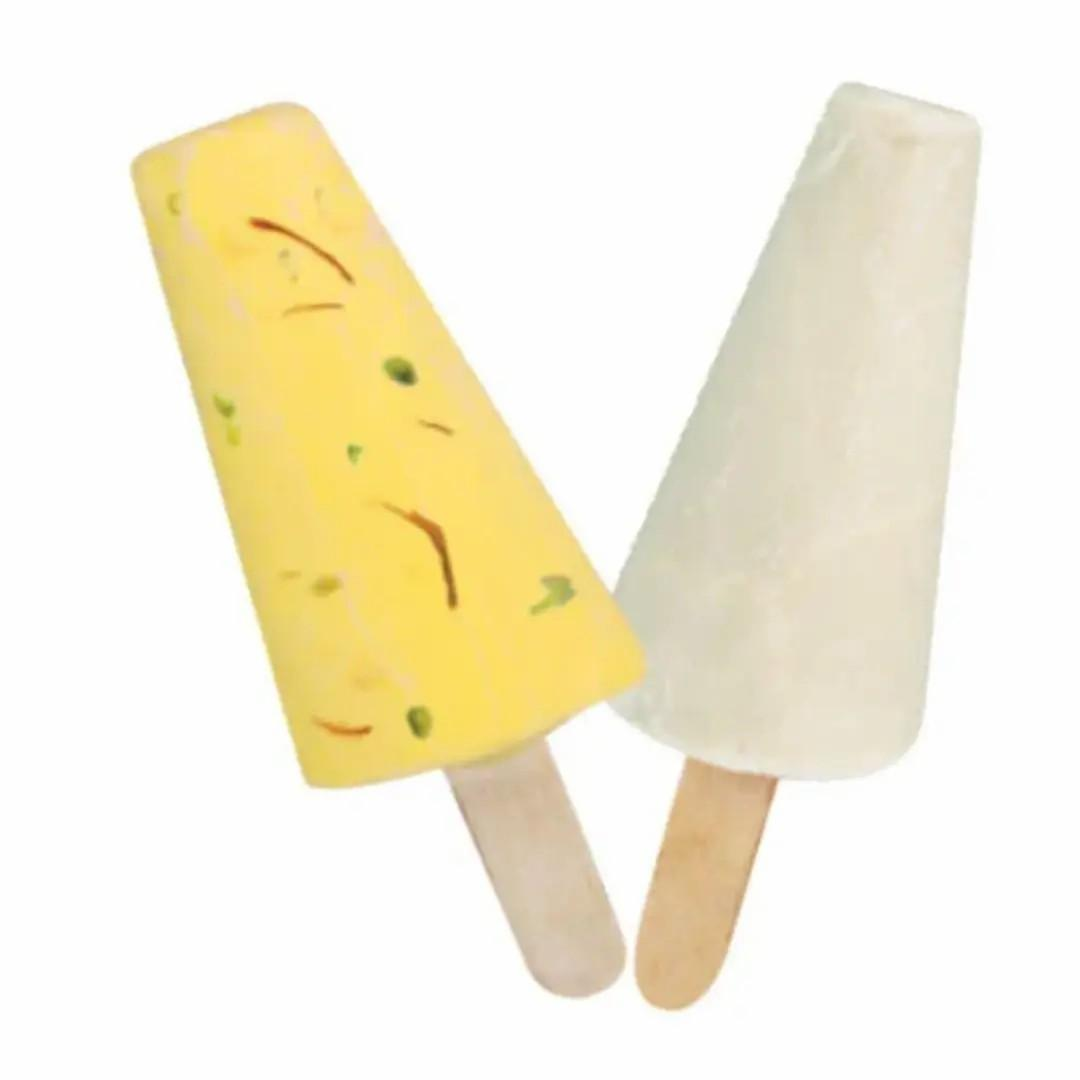Kulfi: (121, 106, 648, 792), (596, 84, 985, 782)
